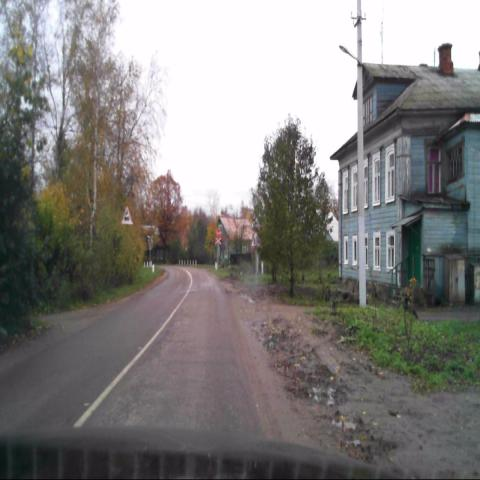1_2: (120, 205, 132, 225)
